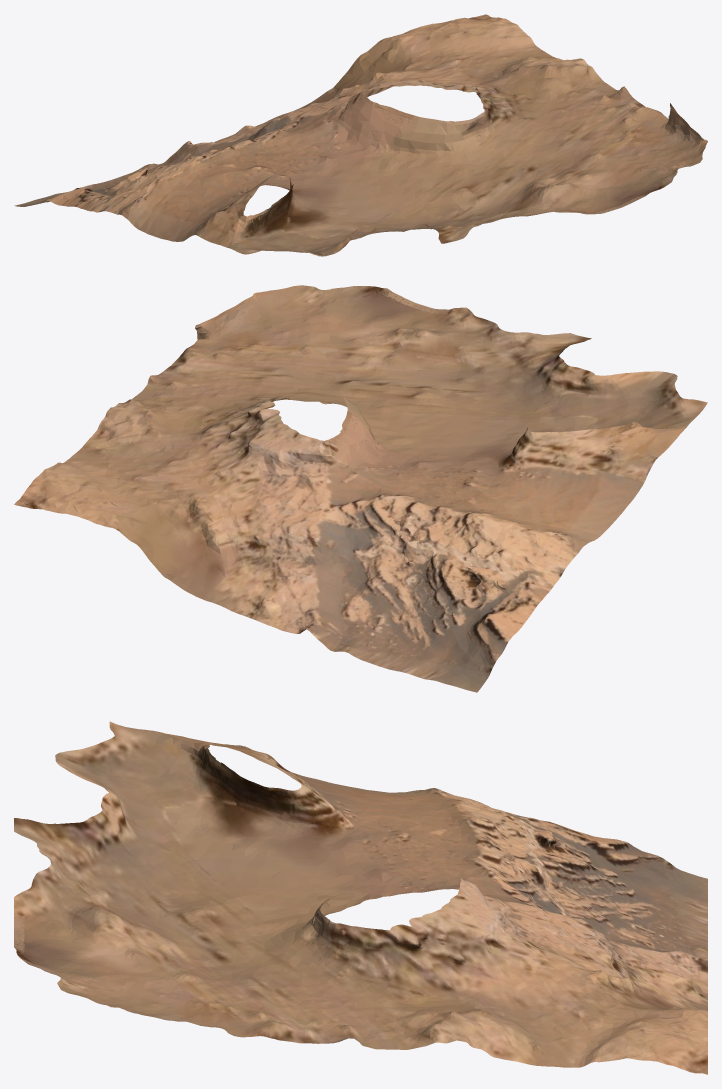
3 views of the same model, one above another, from view 1: azimuth 30°, elevation 25°; view 2: azimuth 150°, elevation 25°; view 3: azimuth 270°, elevation 25° (orthographic). The views are drawn at different scales.
Bounding box in the file's own units: 2.09 × 0.5228 × 2.09.
Materials: 2 (2 with a texture image).
